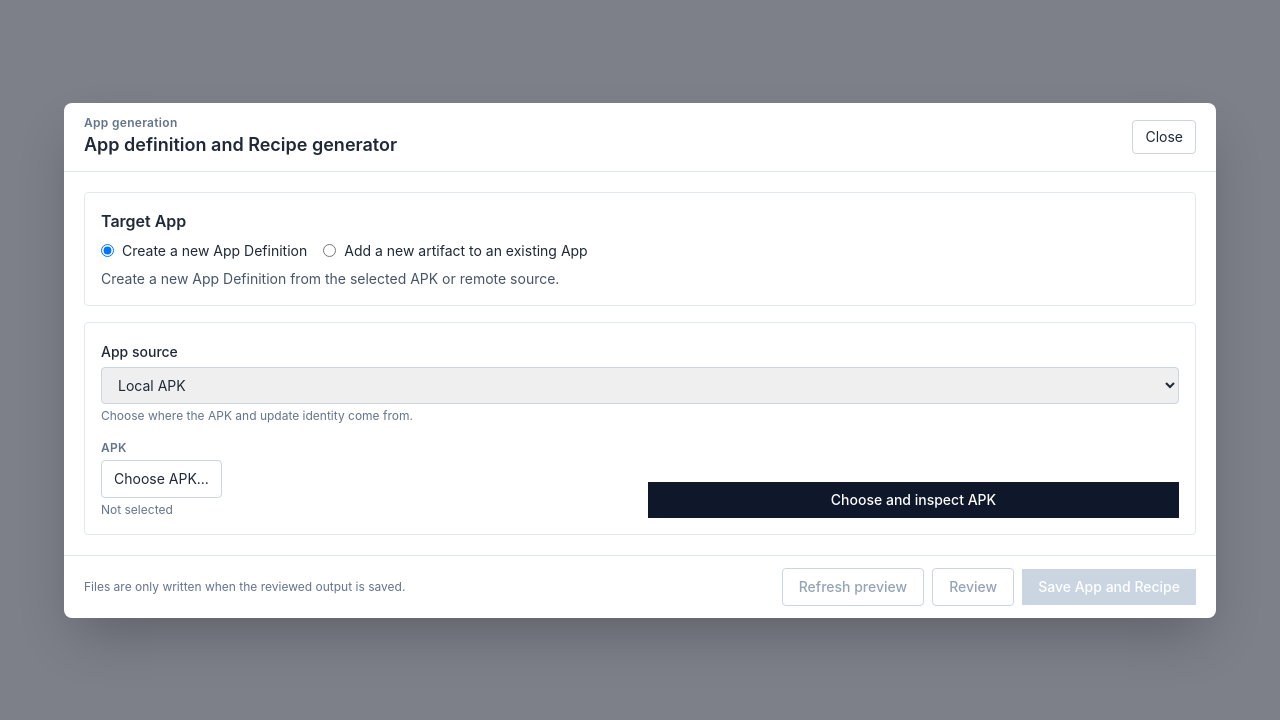
Test: AppGenerator authoring flows › holds one pending review and drops it when a relevant identity edit invalidates it
Click the button "Choose and inspect APK" at (914, 500), box [648,482,1179,518]
(page scrolled)
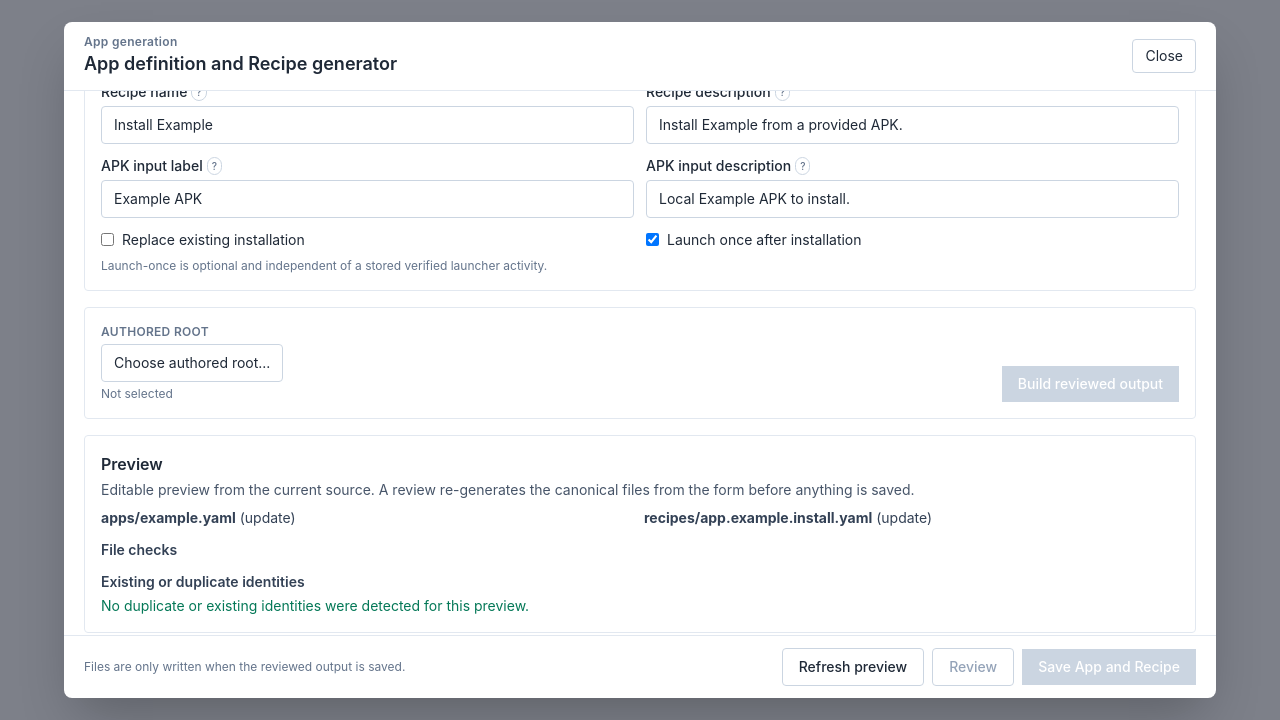
Click the button "Choose authored root..." at (192, 363), box [101,344,283,382]
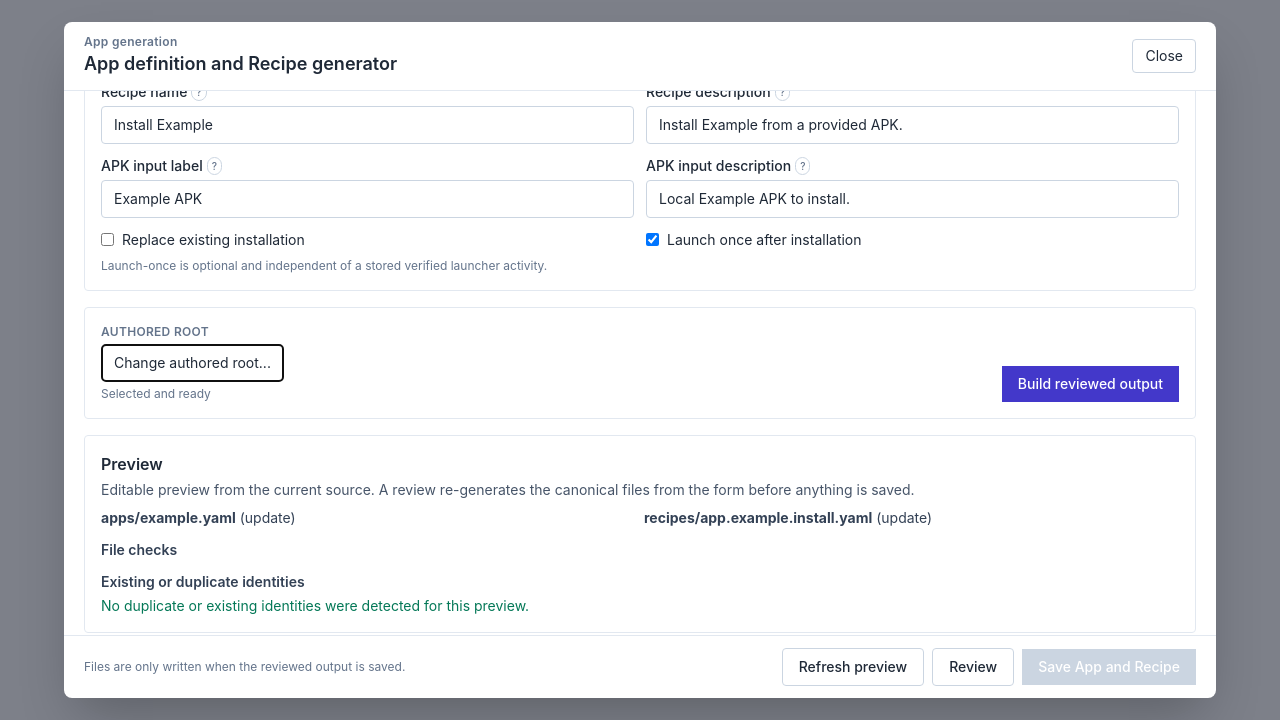
Check: the text "Selected and ready" is shown, box [101,386,211,401]
Click the button "Build reviewed output" at (1090, 384), box [1002,366,1179,402]
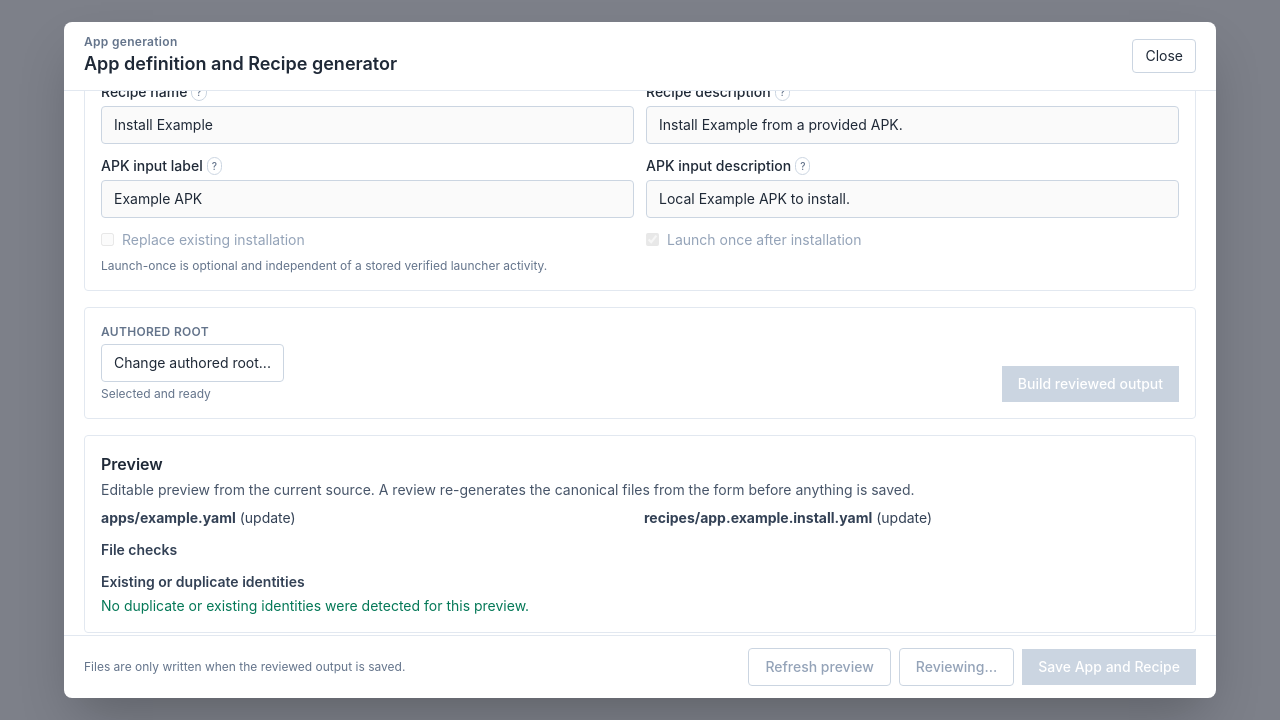
Check: the button "Build reviewed output" is disabled
Click the button "Build reviewed output" at (1090, 384), box [1002,366,1179,402]
(page scrolled)
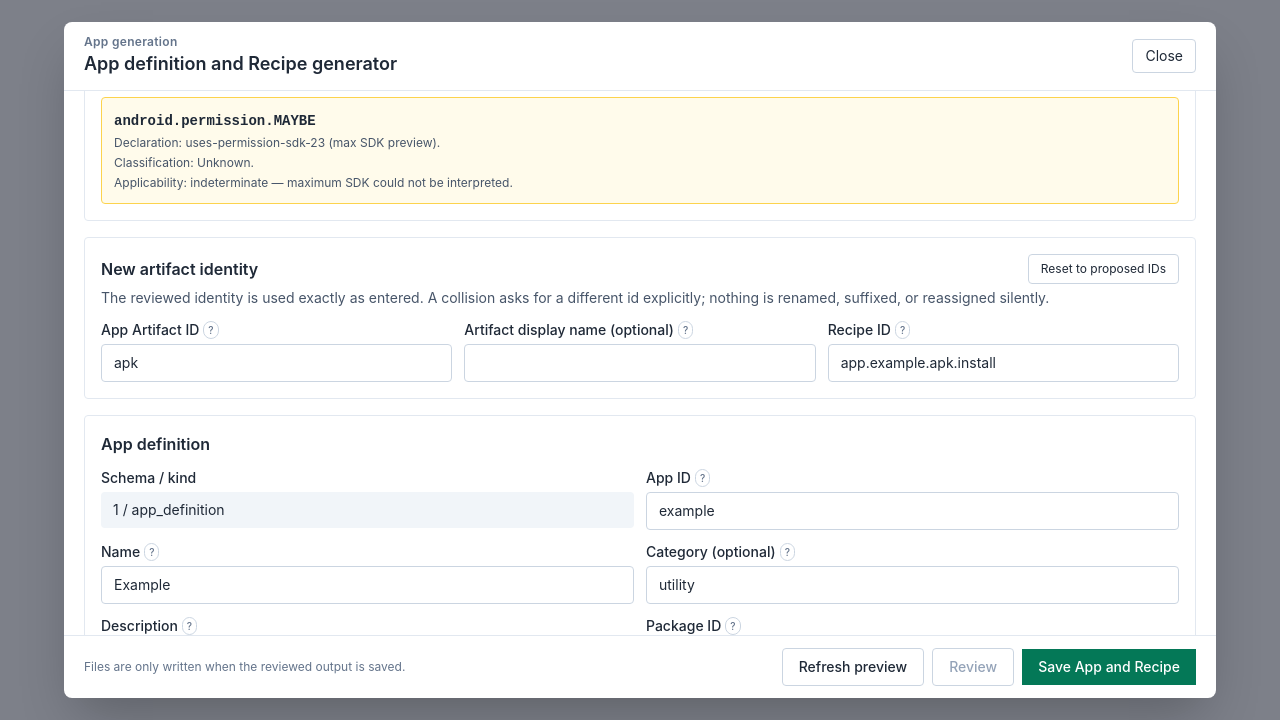
Check: the button "Save App and Recipe" is enabled, box [1022,649,1196,685]
Replace the text in the field labelled "App Artifact ID ?" with "bundle" at (277, 363), box [101,344,452,382]
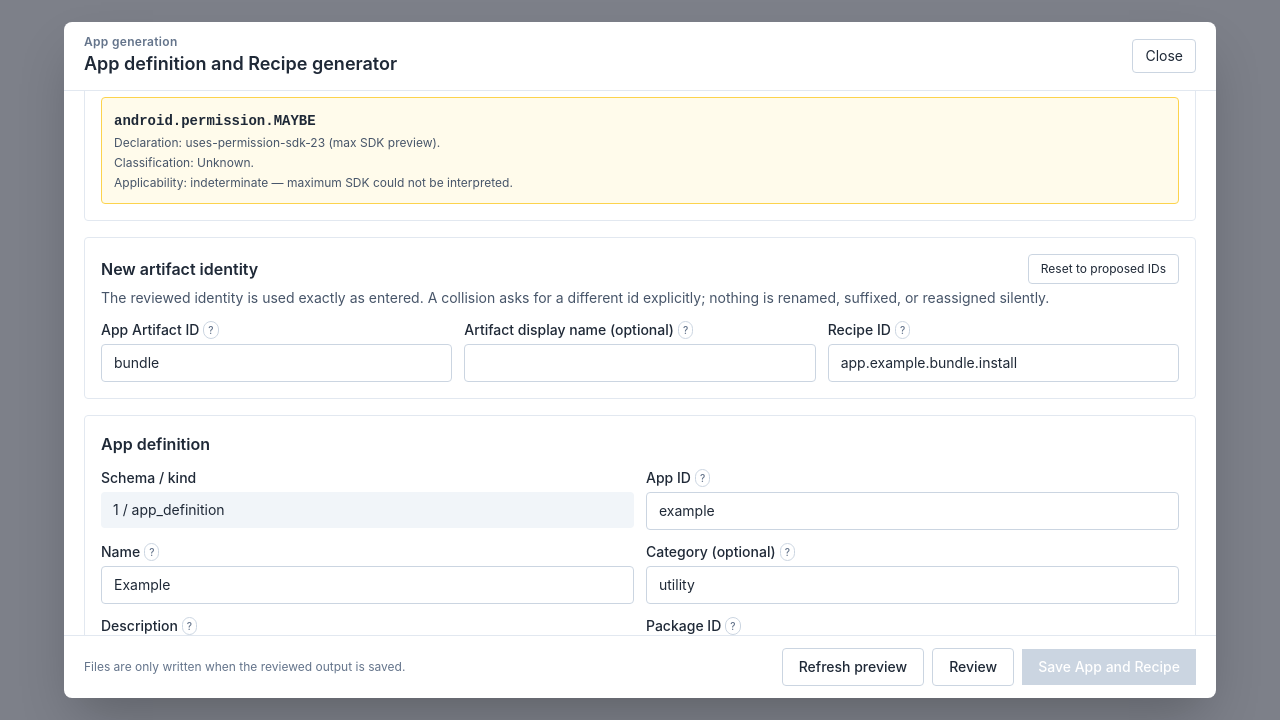
Check: the button "Save App and Recipe" is disabled, box [1022,649,1196,685]
